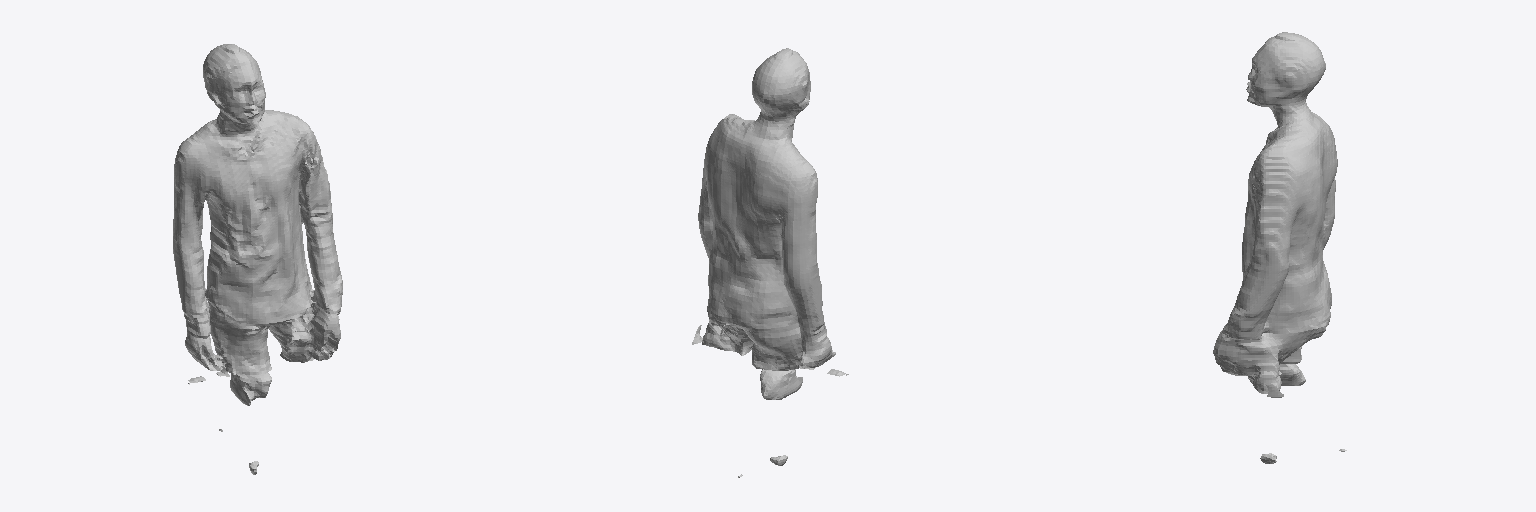
Rendered from result_mc_vor_256.obj.
3 views of the same model, side by side, from view 1: azimuth 30°, elevation 25°; view 2: azimuth 150°, elevation 25°; view 3: azimuth 270°, elevation 25° (orthographic).
Bounding box in the file's own units: 0.4788 × 1.31 × 0.3746.